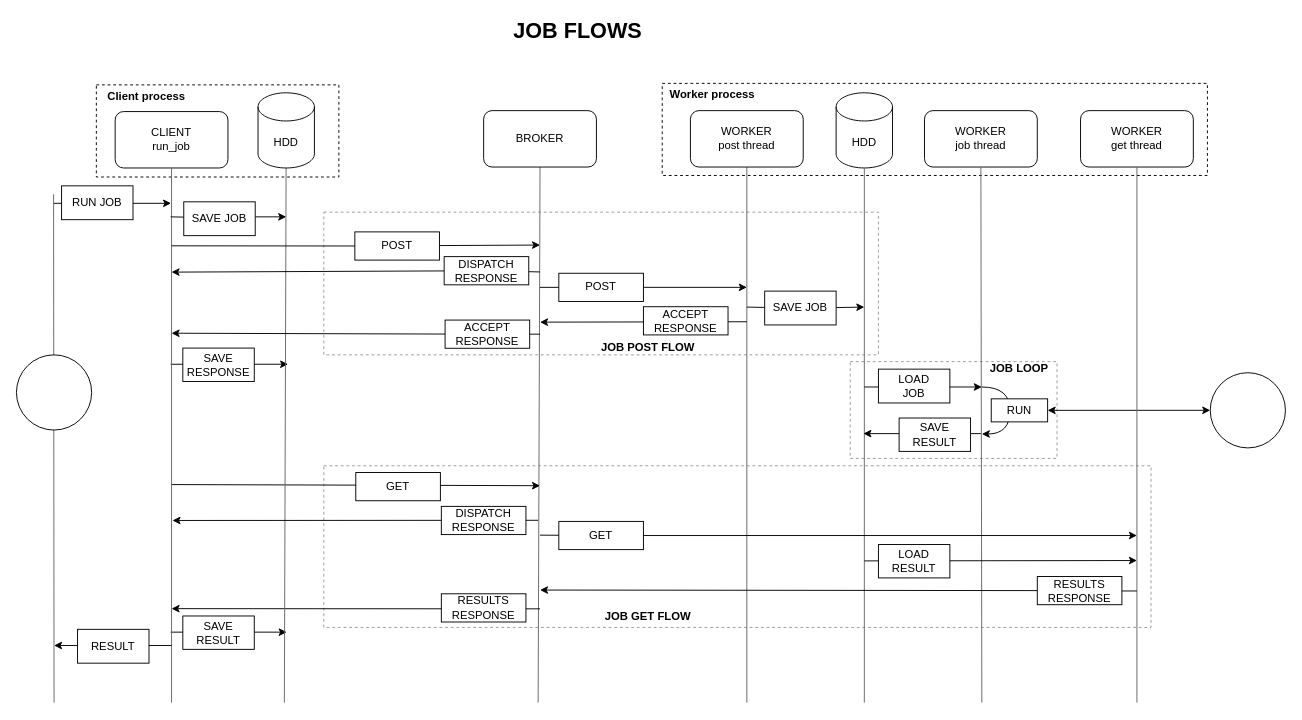
This 1302x720 diagram has some shape labels left out. The centre of each missing label's shape, as x and y in pixels:
"APP" goes at (54,392).
"RESOURCE" goes at (1247,410).
